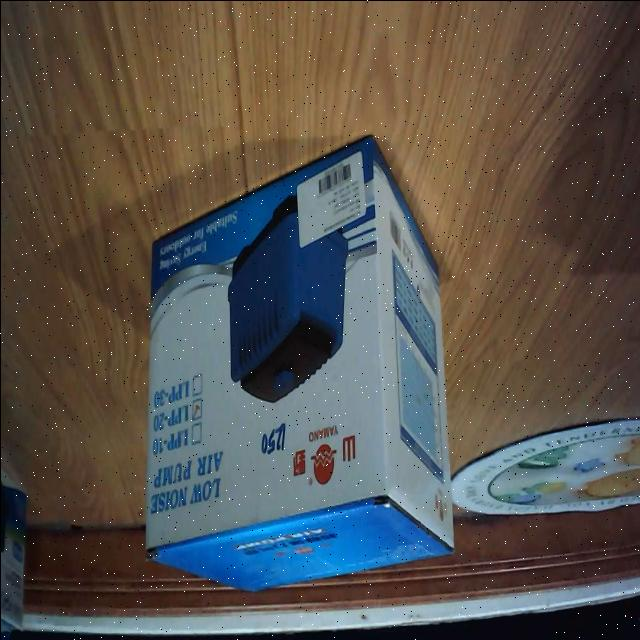YAMANO_LPP_20: (140, 127, 458, 604)
